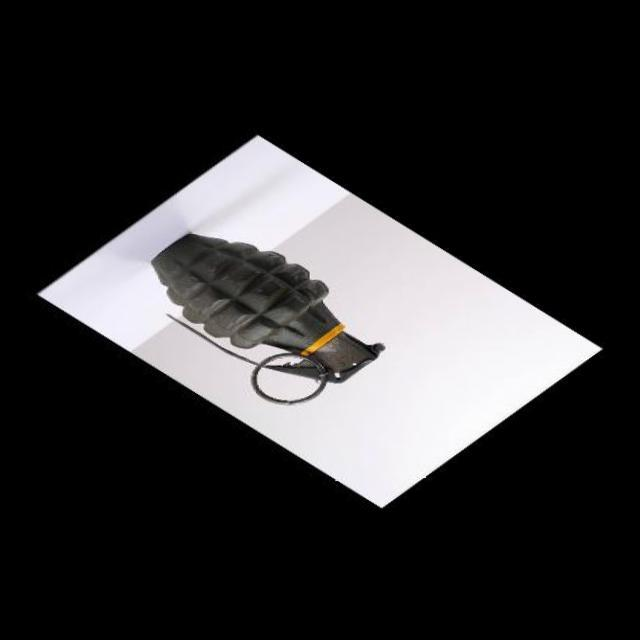grenade: (140, 220, 402, 418)
